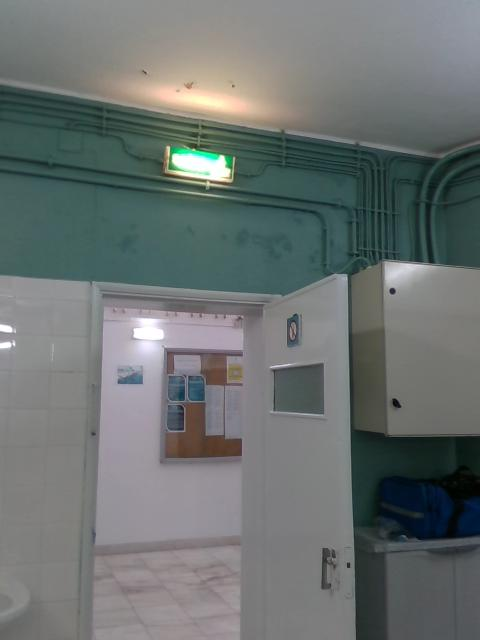open_door: (78, 280, 285, 639)
